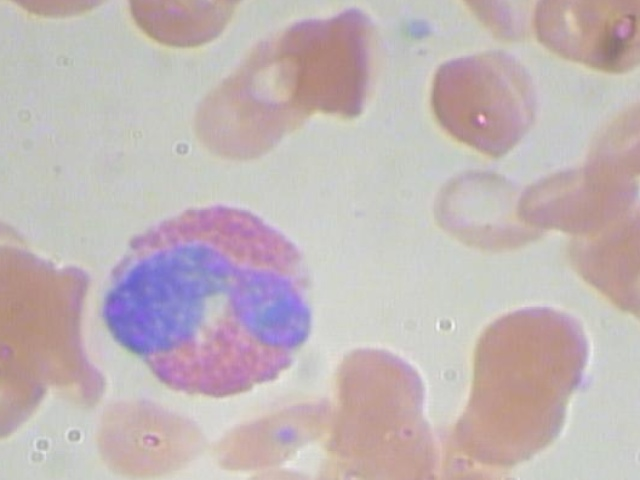Platelets: (391, 11, 438, 49)
RBC: (413, 40, 548, 162), (455, 295, 593, 407), (442, 353, 580, 465), (319, 332, 444, 455), (266, 0, 392, 122), (420, 155, 553, 264), (511, 141, 639, 242), (196, 394, 342, 478), (87, 385, 215, 480), (189, 55, 293, 169), (520, 0, 634, 70), (0, 232, 59, 354), (117, 0, 245, 54), (0, 332, 54, 445), (568, 0, 640, 57)
WBC: (83, 198, 337, 397)
